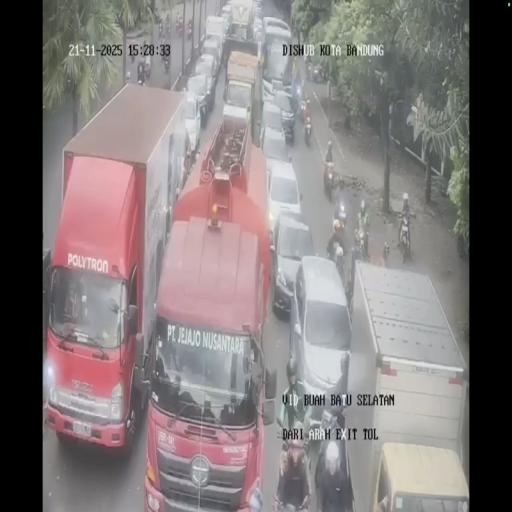car: (270, 208, 316, 318), (220, 99, 251, 153), (270, 88, 298, 144), (185, 72, 210, 125), (200, 36, 222, 78), (252, 16, 264, 44), (220, 4, 232, 29)
motorcycle: (398, 215, 412, 264), (333, 246, 348, 288), (323, 160, 335, 200), (302, 113, 312, 147), (160, 40, 170, 67), (337, 202, 347, 228), (305, 56, 314, 82), (313, 66, 323, 84), (144, 59, 151, 80), (137, 68, 145, 86), (165, 16, 171, 35), (129, 46, 135, 64), (177, 21, 183, 37), (158, 20, 163, 38), (187, 24, 192, 41)
truck: (45, 83, 192, 456), (342, 262, 467, 510), (260, 16, 294, 102)
